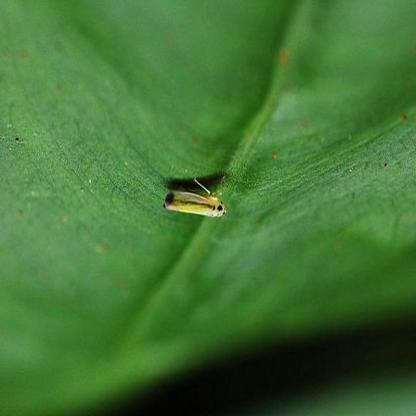green-leafhopper: (168, 184, 227, 224)
